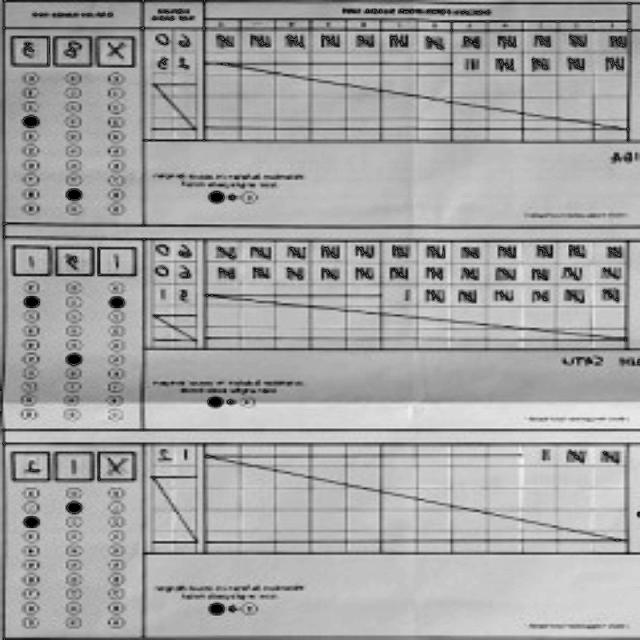Suara: (7, 446, 142, 480), (8, 33, 136, 67), (7, 243, 144, 272)
